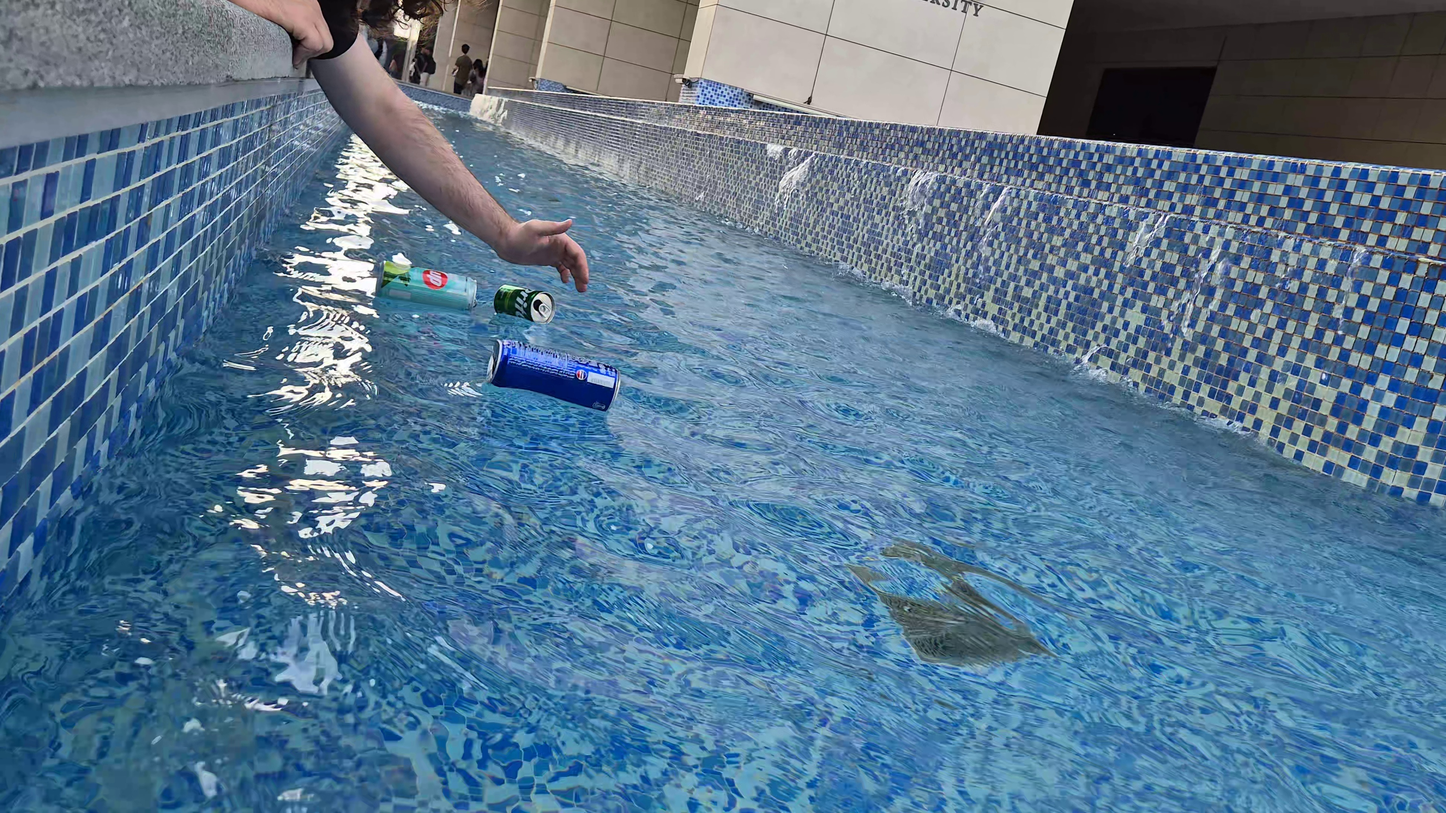debris: (480, 333, 625, 419), (371, 252, 480, 315), (482, 272, 559, 329)
